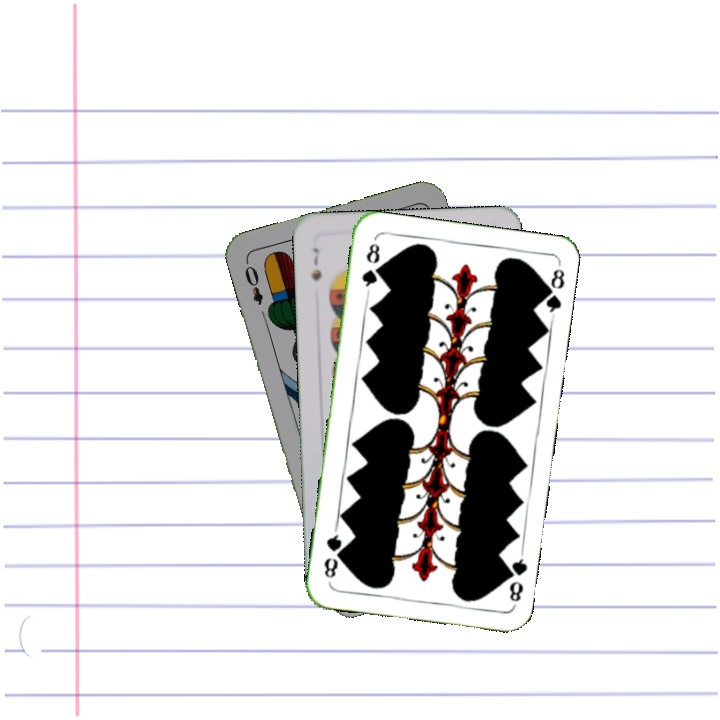EO: (240, 257, 266, 308)
G8: (500, 548, 530, 607), (357, 239, 383, 295)
S7: (307, 244, 324, 284)
